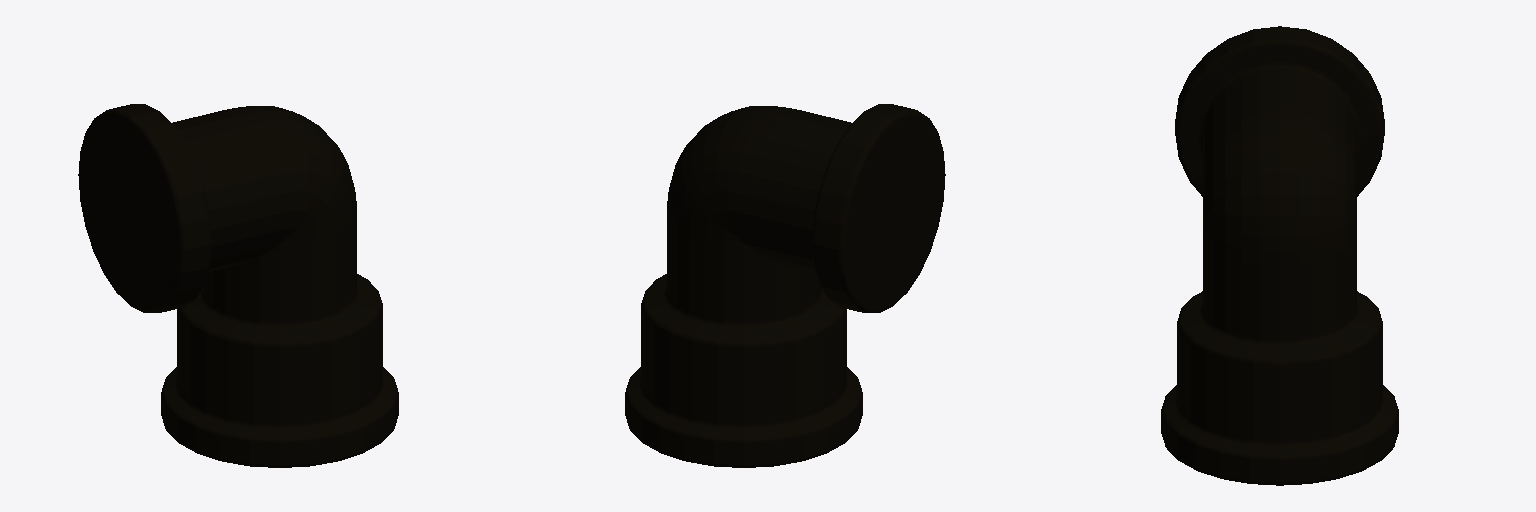
File: zlaty_ohyb.obj
The picture shows the model from 3 angles: view 1: azimuth 30°, elevation 25°; view 2: azimuth 150°, elevation 25°; view 3: azimuth 270°, elevation 25°; orthographic projection.
Parts seen in each view (by area): view 1: BezierCurve.017_Mesh.033; view 2: BezierCurve.017_Mesh.033; view 3: BezierCurve.017_Mesh.033.
Part boxes in pixels (bbox=[...]): BezierCurve.017_Mesh.033: bbox=[78, 104, 398, 467]; BezierCurve.017_Mesh.033: bbox=[625, 104, 945, 467]; BezierCurve.017_Mesh.033: bbox=[1161, 26, 1398, 485].
Size of the model in its own units: 0.2173 by 0.2774 by 0.1762.